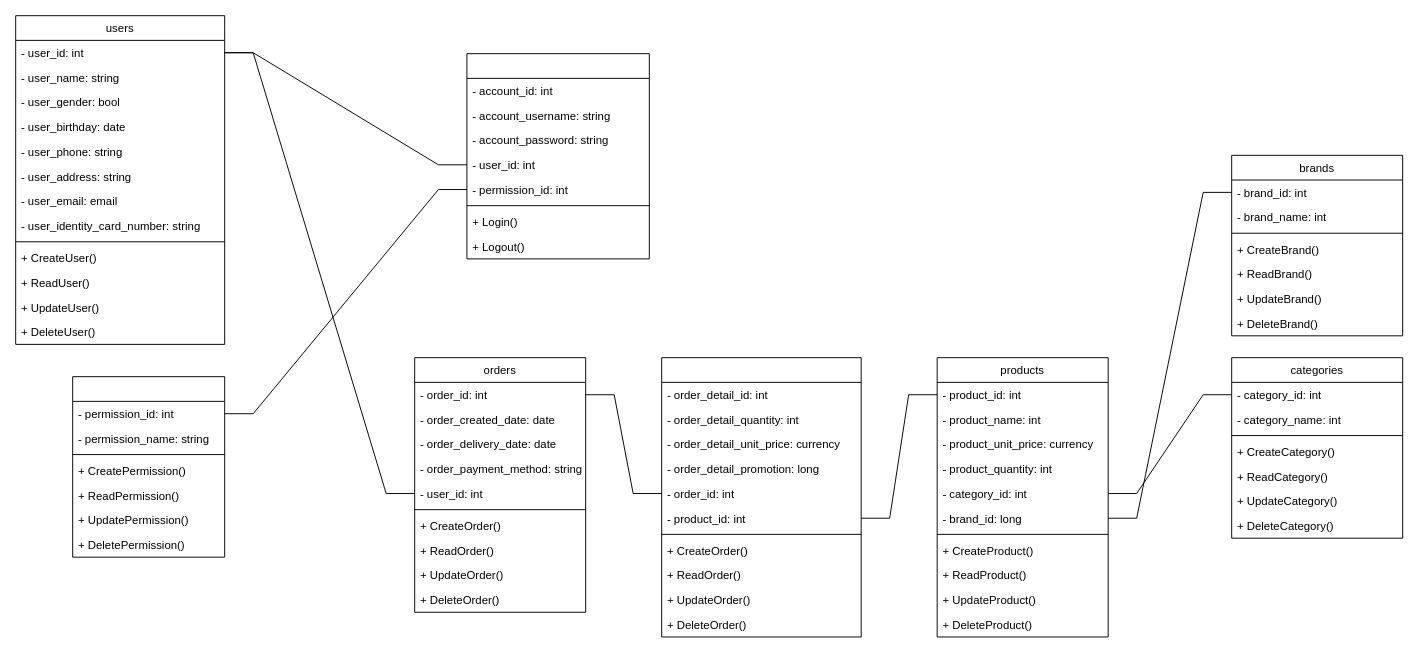
Some shapes in this 1418 by 653 pixel diagram are drawn without their labels. The shapes that lost their labels are listed below. From the top down, each one's box as (x1, y1, x2, y2) in pixels, then its label:
(466, 53, 649, 259): accounts
(72, 376, 225, 557): permissions
(661, 357, 861, 637): order_details
